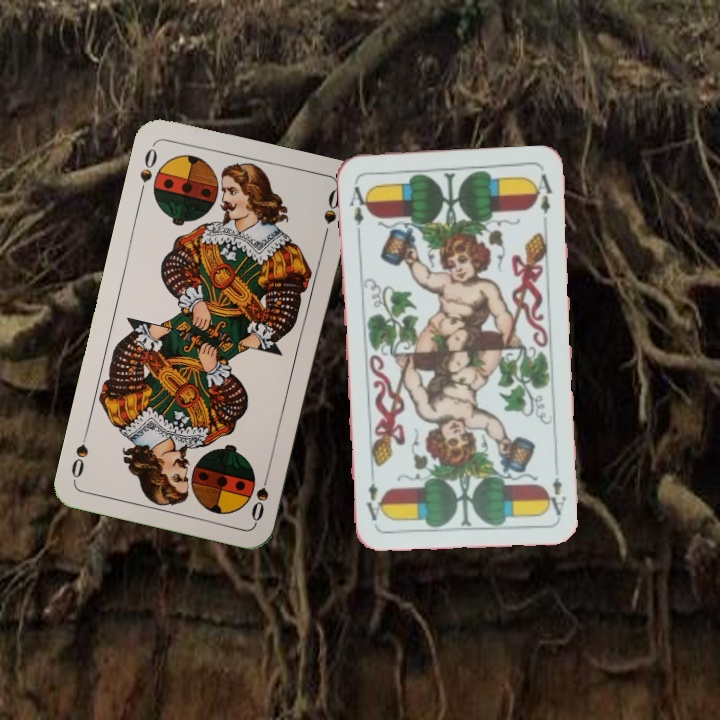EA: (542, 460, 569, 518), (344, 177, 372, 227)
SO: (247, 466, 273, 524), (135, 141, 160, 200)
